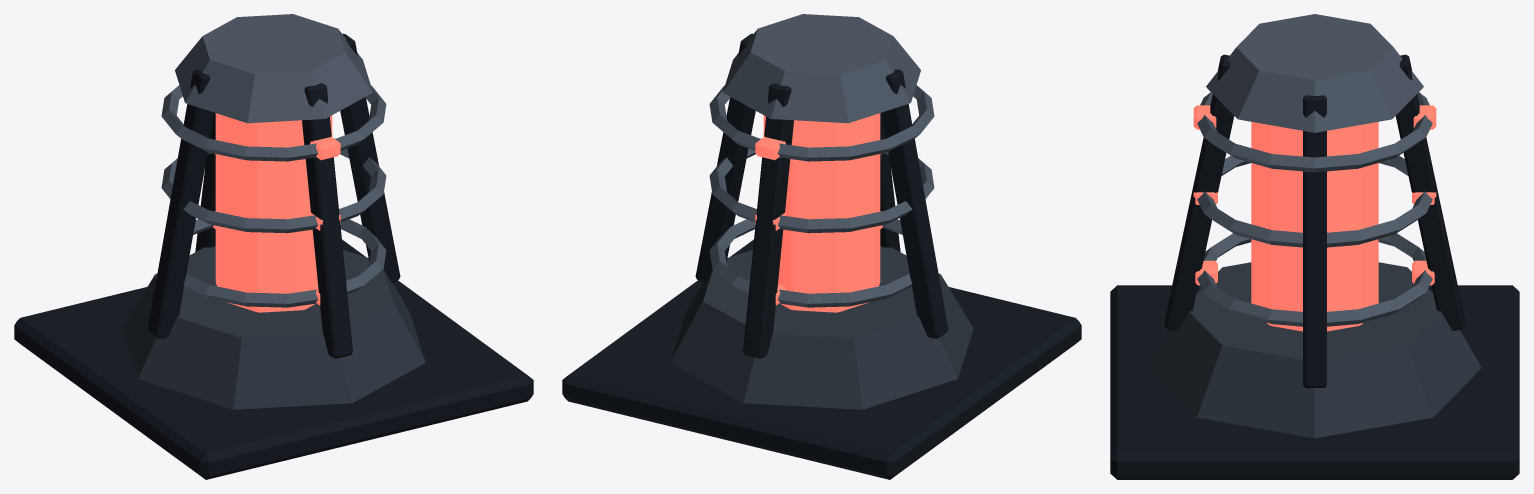
File: m_power.glb
3 views of the same model, side by side, from view 1: azimuth 30°, elevation 25°; view 2: azimuth 150°, elevation 25°; view 3: azimuth 270°, elevation 25° (orthographic). The views are drawn at different scales.
Visible parts, largest first — view 1: Reactor frame, Field ring.002, Field ring, Field ring.001; view 2: Reactor frame, Field ring.002, Field ring, Field ring.001; view 3: Reactor frame, Field ring, Field ring.002, Field ring.001.
Part boxes in pixels (x1,y1,x2,y2): Reactor frame: (14,14,533,479); Field ring.002: (161,85,386,161); Field ring: (183,211,386,307); Field ring.001: (161,138,386,233); Reactor frame: (562,14,1081,479); Field ring.002: (709,85,934,161); Field ring: (709,211,912,307); Field ring.001: (709,138,934,233); Reactor frame: (1110,14,1519,479); Field ring: (1195,233,1434,326); Field ring.002: (1193,92,1436,172); Field ring.001: (1193,155,1436,247).
Bounding box in the file's own units: 3.75 × 3.53 × 3.75.
